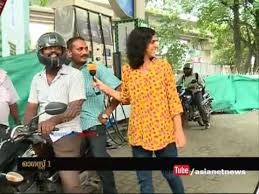helmet: (31, 27, 69, 65)
